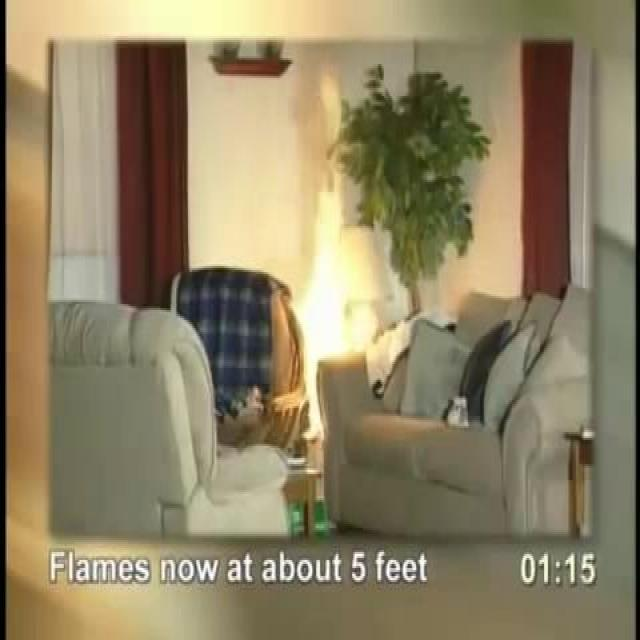fire: (282, 143, 378, 392)
